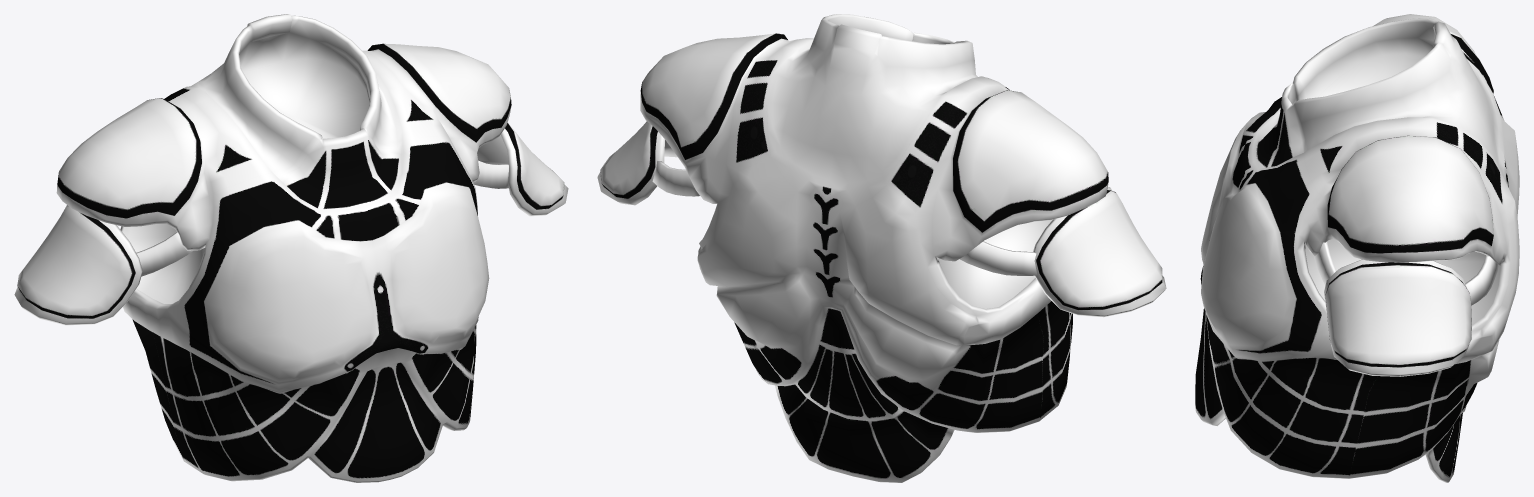
The model's file is SurvivorMale_Armor_Cuirass_AssassinOutfit_LOD0.glb.
3 renders of one model, left to right at view 1: azimuth 30°, elevation 25°; view 2: azimuth 150°, elevation 25°; view 3: azimuth 270°, elevation 25°, orthographic. The views are drawn at different scales.
Visible parts, largest first — view 1: Hoodie; view 2: Hoodie; view 3: Hoodie.
Boxes of the visible parts, <box> form: Hoodie: <box>14,14,568,482</box>; Hoodie: <box>597,14,1166,482</box>; Hoodie: <box>1195,14,1519,482</box>.
Size of the model in its own units: 0.7434 by 0.5706 by 0.3869.
1 material, 1 textured.
